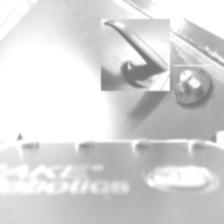Door Handle: (100, 20, 171, 90)
Lock: (173, 65, 213, 110)
